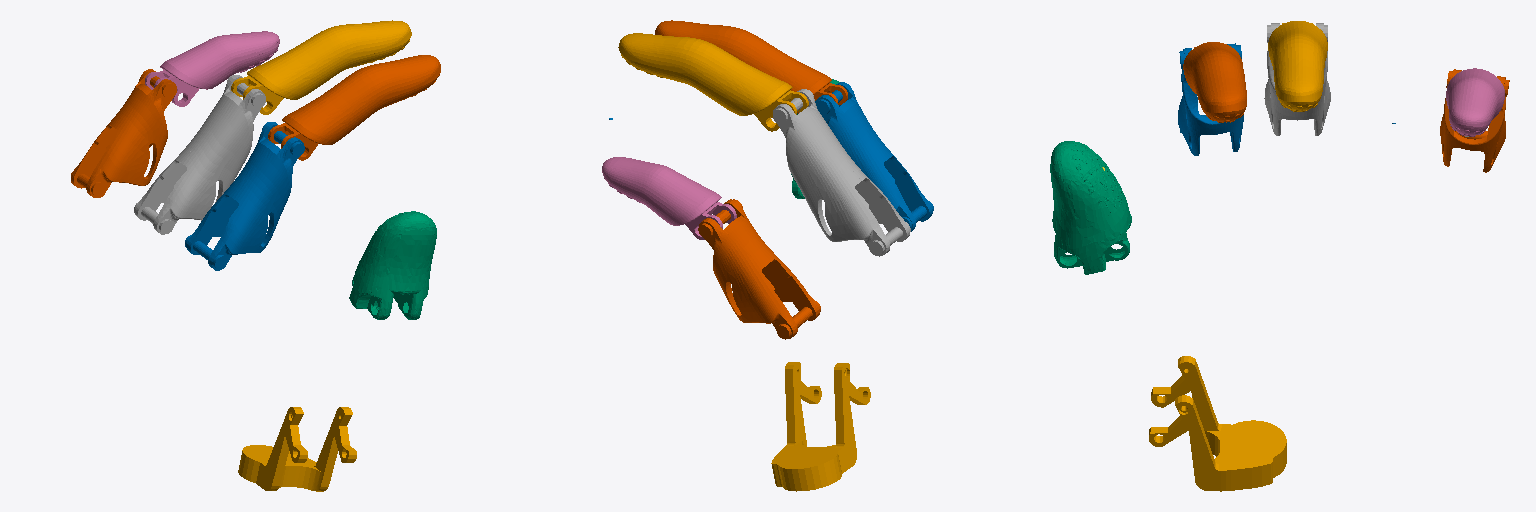
robot.urdf — InspireHand_OY_Left:
<?xml version="1.0" encoding="UTF-8"?>
<robot name="InspireHand_OY_Left">
  <joint name="hand1_joint_link_1_1" type="revolute">
    <origin xyz="0.022705 -0.019251 0.047312" rpy="-0.0083817 0.21825 -0.038695 "/>
    <parent link="hand1_link_base"/>
    <child link="hand1_link_1_1"/>
    <axis xyz="0. 0. 1."/>
    <limit lower="0." upper="1.5699999" effort="10." velocity="1.364"/>
  </joint>
  <joint name="hand1_joint_link_1_2" type="revolute">
    <origin xyz="0.00275 -0.015346 0.017066" rpy="0. 0. -0."/>
    <parent link="hand1_link_1_1"/>
    <child link="hand1_link_1_2"/>
    <axis xyz="1. 0. 0."/>
    <limit lower="0.04" upper="0.6416" effort="10." velocity="1.364"/>
  </joint>
  <joint name="hand1_joint_link_1_3" type="revolute">
    <origin xyz="0. 0. 0.046398" rpy="-0.19193 0. 0. "/>
    <parent link="hand1_link_1_2"/>
    <child link="hand1_link_1_3"/>
    <axis xyz="1. 0. 0."/>
    <limit lower="-0.5" upper="0.04" effort="10." velocity="1.364"/>
    <mimic joint="hand1_joint_link_1_2" multiplier="0.89761" offset="-0.535904255" />
  </joint>
  <joint name="hand1_joint_link_1_4" type="fixed">
    <origin xyz="0. -0.0046792 0.018289 " rpy="1.5707973 1.3788673 1.5707973"/>
    <parent link="hand1_link_1_3"/>
    <child link="hand1_link_1_4"/>
  </joint>
  <joint name="hand1_joint_link_2_1" type="revolute">
    <origin xyz="-0.0026645 -0.029097 0.1161 " rpy="-1.5647001 0.06952 -1.4833 "/>
    <parent link="hand1_link_base"/>
    <child link="hand1_link_2_1"/>
    <axis xyz="1. 0. 0."/>
    <limit lower="1.7499999" upper="3.1099998" effort="10." velocity="1.364"/>
  </joint>
  <joint name="hand1_joint_link_2_2" type="revolute">
    <origin xyz="0. 0.035919 -0.000219" rpy="-0. 0. -0."/>
    <parent link="hand1_link_2_1"/>
    <child link="hand1_link_2_2"/>
    <axis xyz="1. 0. 0."/>
    <limit lower="0.02845" upper="1.5699999" effort="10." velocity="1.364"/>
    <mimic joint="hand1_joint_link_2_1" multiplier="1.13349" offset="-1.954170452" />
  </joint>
  <joint name="hand1_joint_link_2_3" type="fixed">
    <origin xyz="0. -0.0002353 -0.04385 " rpy="-1.5707726 -0.0061038 -1.5707965"/>
    <parent link="hand1_link_2_2"/>
    <child link="hand1_link_2_3"/>
  </joint>
  <joint name="hand1_joint_link_3_1" type="revolute">
    <origin xyz="-0.0069662 -0.0090558 0.1191 " rpy="-1.5708 0.0000001 -1.5708 "/>
    <parent link="hand1_link_base"/>
    <child link="hand1_link_3_1"/>
    <axis xyz="1. 0. 0."/>
    <limit lower="1.7099999" upper="3.0699997" effort="10." velocity="1.364"/>
  </joint>
  <joint name="hand1_joint_link_3_2" type="revolute">
    <origin xyz="0.0000428 0.041009 0. " rpy="0. -0. 0.011929"/>
    <parent link="hand1_link_3_1"/>
    <child link="hand1_link_3_2"/>
    <axis xyz="1. 0. 0."/>
    <limit lower="0.0688" upper="1.5699999" effort="10." velocity="1.364"/>
    <mimic joint="hand1_joint_link_3_1" multiplier="1.10382" offset="-1.81781665" />
  </joint>
  <joint name="hand1_joint_link_3_3" type="fixed">
    <origin xyz="0.0000142 -0.0018023 -0.043814 " rpy="-1.5707964 -0.0000036 -1.5707878"/>
    <parent link="hand1_link_3_2"/>
    <child link="hand1_link_3_3"/>
  </joint>
  <joint name="hand1_joint_link_4_1" type="revolute">
    <origin xyz="-0.0062162 0.010944 0.1161 " rpy="-1.5708 -0.0698469 -1.5708 "/>
    <parent link="hand1_link_base"/>
    <child link="hand1_link_4_1"/>
    <axis xyz="1. 0. 0."/>
    <limit lower="1.7699998" upper="3.0799999" effort="10." velocity="1.364"/>
  </joint>
  <joint name="hand1_joint_link_4_2" type="revolute">
    <origin xyz="-0. 0.03592 0. " rpy="0. -0. 0.0000001"/>
    <parent link="hand1_link_4_1"/>
    <child link="hand1_link_4_2"/>
    <axis xyz="1. 0. 0."/>
    <limit lower="0.06" upper="1.5699999" effort="10." velocity="1.364"/>
    <mimic joint="hand1_joint_link_4_1" multiplier="1.15267" offset="-1.979224338" />
  </joint>
  <joint name="hand1_joint_link_4_3" type="fixed">
    <origin xyz="-0. -0.0022757 -0.043792 " rpy="-1.5707725 -0.0000036 -1.5707963"/>
    <parent link="hand1_link_4_2"/>
    <child link="hand1_link_4_3"/>
  </joint>
  <joint name="hand1_joint_link_5_1" type="revolute">
    <origin xyz="-0.0036637 0.030986 0.11208 " rpy="-1.5592998 -0.1312 -1.6588 "/>
    <parent link="hand1_link_base"/>
    <child link="hand1_link_5_1"/>
    <axis xyz="1. 0. 0."/>
    <limit lower="1.73" upper="3.0499999" effort="10." velocity="1.364"/>
  </joint>
  <joint name="hand1_joint_link_5_2" type="revolute">
    <origin xyz="-0. 0.031929 -0.0003684" rpy="0. -0. 0."/>
    <parent link="hand1_link_5_1"/>
    <child link="hand1_link_5_2"/>
    <axis xyz="1. 0. 0."/>
    <limit lower="0.09" upper="1.5699999" effort="10." velocity="1.364"/>
    <mimic joint="hand1_joint_link_5_1" multiplier="1.12121" offset="-1.848759431" />
  </joint>
  <joint name="hand1_joint_link_5_3" type="fixed">
    <origin xyz="0. -0.0012841 -0.031579 " rpy="-1.5707964 -0.0115037 -1.5707964"/>
    <parent link="hand1_link_5_2"/>
    <child link="hand1_link_5_3"/>
  </joint>
  <link name="hand1_link_1_1">
    <visual>
      <origin xyz="0. 0. 0." rpy="0. 0. 0."/>
      <geometry>
        <mesh filename="meshes/hand1_link_1_1_visuals.obj" scale="1. 1. 1."/>
      </geometry>
    </visual>
    <collision>
      <origin xyz="0. 0. 0." rpy="0. 0. 0."/>
      <geometry>
        <mesh filename="meshes/hand1_link_1_1_collisions.obj" scale="1. 1. 1."/>
      </geometry>
    </collision>
  </link>
  <link name="hand1_link_1_2">
    <inertial>
      <origin xyz="0. 0. 0." rpy="0. 0. 0."/>
      <mass value="0.022429"/>
      <inertia ixx="0." ixy="0." ixz="0." iyy="0." iyz="0." izz="0."/>
    </inertial>
    <visual>
      <origin xyz="0. 0. 0." rpy="0. 0. 0."/>
      <geometry>
        <mesh filename="meshes/hand1_link_1_2_visuals.obj" scale="1. 1. 1."/>
      </geometry>
    </visual>
    <collision>
      <origin xyz="0. 0. 0." rpy="0. 0. 0."/>
      <geometry>
        <mesh filename="meshes/hand1_link_1_2_collisions.obj" scale="1. 1. 1."/>
      </geometry>
    </collision>
  </link>
  <link name="hand1_link_1_3">
    <inertial>
      <origin xyz="0. 0. 0." rpy="0. 0. 0."/>
      <mass value="0.0022502"/>
      <inertia ixx="0." ixy="0." ixz="0." iyy="0." iyz="0." izz="0."/>
    </inertial>
    <visual>
      <origin xyz="0. 0. -0." rpy="-0.0000009 0.0000002 0. "/>
      <geometry>
        <mesh filename="meshes/hand1_link_1_3_visuals.obj" scale="1. 1. 1."/>
      </geometry>
    </visual>
    <collision>
      <origin xyz="0. 0. -0." rpy="-0.0000009 0.0000002 0. "/>
      <geometry>
        <mesh filename="meshes/hand1_link_1_3_collisions.obj" scale="1. 1. 1."/>
      </geometry>
    </collision>
  </link>
  <link name="hand1_link_1_4">
    <inertial>
      <origin xyz="0. 0. 0." rpy="0. 0. 0."/>
      <mass value="0.0000002"/>
      <inertia ixx="0." ixy="0." ixz="0." iyy="0." iyz="0." izz="0."/>
    </inertial>
    <visual>
      <origin xyz="-0. 0. 0." rpy="-3.0166261 -1.5707961 3.0166261"/>
      <geometry>
        <mesh filename="meshes/hand1_link_1_4_visuals.obj" scale="1. 1. 1."/>
      </geometry>
    </visual>
    <collision>
      <origin xyz="-0. 0. 0." rpy="-3.0166261 -1.5707961 3.0166261"/>
      <geometry>
        <mesh filename="meshes/hand1_link_1_4_collisions.obj" scale="1. 1. 1."/>
      </geometry>
    </collision>
  </link>
  <link name="hand1_link_2_1">
    <inertial>
      <origin xyz="0. 0. 0." rpy="0. 0. 0."/>
      <mass value="0.0059375"/>
      <inertia ixx="0." ixy="0." ixz="0." iyy="0." iyz="0." izz="0."/>
    </inertial>
    <visual>
      <origin xyz="0. 0. 0." rpy="0. 0. 0."/>
      <geometry>
        <mesh filename="meshes/hand1_link_2_1_visuals.obj" scale="1. 1. 1."/>
      </geometry>
    </visual>
    <collision>
      <origin xyz="0. 0. 0." rpy="0. 0. 0."/>
      <geometry>
        <mesh filename="meshes/hand1_link_2_1_collisions.obj" scale="1. 1. 1."/>
      </geometry>
    </collision>
  </link>
  <link name="hand1_link_2_2">
    <inertial>
      <origin xyz="0. 0. 0." rpy="0. 0. 0."/>
      <mass value="0.012005"/>
      <inertia ixx="0." ixy="0." ixz="0." iyy="0." iyz="0." izz="0."/>
    </inertial>
    <visual>
      <origin xyz="0. 0. 0." rpy="0. 0. 0."/>
      <geometry>
        <mesh filename="meshes/hand1_link_2_2_visuals.obj" scale="1. 1. 1."/>
      </geometry>
    </visual>
    <collision>
      <origin xyz="0. 0. 0." rpy="0. 0. 0."/>
      <geometry>
        <mesh filename="meshes/hand1_link_2_2_collisions.obj" scale="1. 1. 1."/>
      </geometry>
    </collision>
  </link>
  <link name="hand1_link_2_3">
    <inertial>
      <origin xyz="0. 0. 0." rpy="0. 0. 0."/>
      <mass value="0.0000002"/>
      <inertia ixx="0." ixy="0." ixz="0." iyy="0." iyz="0." izz="0."/>
    </inertial>
    <visual>
      <origin xyz="0. -0. 0." rpy="-1.5707963 -1.5707961 1.5707964"/>
      <geometry>
        <mesh filename="meshes/hand1_link_2_3_visuals.obj" scale="1. 1. 1."/>
      </geometry>
    </visual>
    <collision>
      <origin xyz="0. -0. 0." rpy="-1.5707963 -1.5707961 1.5707964"/>
      <geometry>
        <mesh filename="meshes/hand1_link_2_3_collisions.obj" scale="1. 1. 1."/>
      </geometry>
    </collision>
  </link>
  <link name="hand1_link_3_1">
    <inertial>
      <origin xyz="0. 0. 0." rpy="0. 0. 0."/>
      <mass value="0.0067572"/>
      <inertia ixx="0." ixy="0." ixz="0." iyy="0." iyz="0." izz="0."/>
    </inertial>
    <visual>
      <origin xyz="0. 0. 0." rpy="0. -0. -0."/>
      <geometry>
        <mesh filename="meshes/hand1_link_3_1_visuals.obj" scale="1. 1. 1."/>
      </geometry>
    </visual>
    <collision>
      <origin xyz="0. 0. 0." rpy="0. -0. -0."/>
      <geometry>
        <mesh filename="meshes/hand1_link_3_1_collisions.obj" scale="1. 1. 1."/>
      </geometry>
    </collision>
  </link>
  <link name="hand1_link_3_2">
    <inertial>
      <origin xyz="0. 0. 0." rpy="0. 0. 0."/>
      <mass value="0.012005"/>
      <inertia ixx="0." ixy="0." ixz="0." iyy="0." iyz="0." izz="0."/>
    </inertial>
    <visual>
      <origin xyz="-0. 0. -0." rpy="-0. -0. 0.0000086"/>
      <geometry>
        <mesh filename="meshes/hand1_link_3_2_visuals.obj" scale="1. 1. 1."/>
      </geometry>
    </visual>
    <collision>
      <origin xyz="-0. 0. -0." rpy="-0. -0. 0.0000086"/>
      <geometry>
        <mesh filename="meshes/hand1_link_3_2_collisions.obj" scale="1. 1. 1."/>
      </geometry>
    </collision>
  </link>
  <link name="hand1_link_3_3">
    <inertial>
      <origin xyz="0. 0. 0." rpy="0. 0. 0."/>
      <mass value="0.0000002"/>
      <inertia ixx="0." ixy="0." ixz="0." iyy="0." iyz="0." izz="0."/>
    </inertial>
    <visual>
      <origin xyz="-0. 0. -0." rpy="-0.0000001 -1.5707963 0. "/>
      <geometry>
        <mesh filename="meshes/hand1_link_3_3_visuals.obj" scale="1. 1. 1."/>
      </geometry>
    </visual>
    <collision>
      <origin xyz="-0. 0. -0." rpy="-0.0000001 -1.5707963 0. "/>
      <geometry>
        <mesh filename="meshes/hand1_link_3_3_collisions.obj" scale="1. 1. 1."/>
      </geometry>
    </collision>
  </link>
  <link name="hand1_link_4_1">
    <inertial>
      <origin xyz="0. 0. 0." rpy="0. 0. 0."/>
      <mass value="0.0059375"/>
      <inertia ixx="0." ixy="0." ixz="0." iyy="0." iyz="0." izz="0."/>
    </inertial>
    <visual>
      <origin xyz="0. 0. 0." rpy="0. -0. 0.0000001"/>
      <geometry>
        <mesh filename="meshes/hand1_link_4_1_visuals.obj" scale="1. 1. 1."/>
      </geometry>
    </visual>
    <collision>
      <origin xyz="0. 0. 0." rpy="0. -0. 0.0000001"/>
      <geometry>
        <mesh filename="meshes/hand1_link_4_1_collisions.obj" scale="1. 1. 1."/>
      </geometry>
    </collision>
  </link>
  <link name="hand1_link_4_2">
    <inertial>
      <origin xyz="0. 0. 0." rpy="0. 0. 0."/>
      <mass value="0.012005"/>
      <inertia ixx="0." ixy="0." ixz="0." iyy="0." iyz="0." izz="0."/>
    </inertial>
    <visual>
      <origin xyz="-0. -0. 0." rpy="0. -0. 0.0000001"/>
      <geometry>
        <mesh filename="meshes/hand1_link_4_2_visuals.obj" scale="1. 1. 1."/>
      </geometry>
    </visual>
    <collision>
      <origin xyz="-0. -0. 0." rpy="0. -0. 0.0000001"/>
      <geometry>
        <mesh filename="meshes/hand1_link_4_2_collisions.obj" scale="1. 1. 1."/>
      </geometry>
    </collision>
  </link>
  <link name="hand1_link_4_3">
    <inertial>
      <origin xyz="0. 0. 0." rpy="0. 0. 0."/>
      <mass value="0.0000002"/>
      <inertia ixx="0." ixy="0." ixz="0." iyy="0." iyz="0." izz="0."/>
    </inertial>
    <visual>
      <origin xyz="0. 0. -0." rpy="-0.0000001 -1.5707963 0. "/>
      <geometry>
        <mesh filename="meshes/hand1_link_4_3_visuals.obj" scale="1. 1. 1."/>
      </geometry>
    </visual>
    <collision>
      <origin xyz="0. 0. -0." rpy="-0.0000001 -1.5707963 0. "/>
      <geometry>
        <mesh filename="meshes/hand1_link_4_3_collisions.obj" scale="1. 1. 1."/>
      </geometry>
    </collision>
  </link>
  <link name="hand1_link_5_1">
    <inertial>
      <origin xyz="0. 0. 0." rpy="0. 0. 0."/>
      <mass value="0.0067858"/>
      <inertia ixx="0." ixy="0." ixz="0." iyy="0." iyz="0." izz="0."/>
    </inertial>
    <visual>
      <origin xyz="0. 0. 0." rpy="0. -0. 0."/>
      <geometry>
        <mesh filename="meshes/hand1_link_5_1_visuals.obj" scale="1. 1. 1."/>
      </geometry>
    </visual>
    <collision>
      <origin xyz="0. 0. 0." rpy="0. -0. 0."/>
      <geometry>
        <mesh filename="meshes/hand1_link_5_1_collisions.obj" scale="1. 1. 1."/>
      </geometry>
    </collision>
  </link>
  <link name="hand1_link_5_2">
    <inertial>
      <origin xyz="0. 0. 0." rpy="0. 0. 0."/>
      <mass value="0.0071121"/>
      <inertia ixx="0." ixy="0." ixz="0." iyy="0." iyz="0." izz="0."/>
    </inertial>
    <visual>
      <origin xyz="0. 0. 0." rpy="0. -0. 0."/>
      <geometry>
        <mesh filename="meshes/hand1_link_5_2_visuals.obj" scale="1. 1. 1."/>
      </geometry>
    </visual>
    <collision>
      <origin xyz="0. 0. 0." rpy="0. -0. 0."/>
      <geometry>
        <mesh filename="meshes/hand1_link_5_2_collisions.obj" scale="1. 1. 1."/>
      </geometry>
    </collision>
  </link>
  <link name="hand1_link_5_3">
    <inertial>
      <origin xyz="0. 0. 0." rpy="0. 0. 0."/>
      <mass value="0.0000002"/>
      <inertia ixx="0." ixy="0." ixz="0." iyy="0." iyz="0." izz="0."/>
    </inertial>
    <visual>
      <origin xyz="-0. 0. 0." rpy="-0. -1.5707963 0. "/>
      <geometry>
        <mesh filename="meshes/hand1_link_5_3_visuals.obj" scale="1. 1. 1."/>
      </geometry>
    </visual>
    <collision>
      <origin xyz="-0. 0. 0." rpy="-0. -1.5707963 0. "/>
      <geometry>
        <mesh filename="meshes/hand1_link_5_3_collisions.obj" scale="1. 1. 1."/>
      </geometry>
    </collision>
  </link>
  <link name="hand1_link_base">
    <inertial>
      <origin xyz="0. 0. 0." rpy="0. 0. 0."/>
      <mass value="0.22607"/>
      <inertia ixx="0." ixy="0." ixz="0." iyy="0." iyz="0." izz="0."/>
    </inertial>
    <visual>
      <origin xyz="0. 0. 0." rpy="0. 0. 0."/>
      <geometry>
        <mesh filename="meshes/hand1_link_base_visuals.obj" scale="1. 1. 1."/>
      </geometry>
    </visual>
    <collision>
      <origin xyz="0. 0. 0." rpy="0. 0. 0."/>
      <geometry>
        <mesh filename="meshes/hand1_link_base_collisions.obj" scale="1. 1. 1."/>
      </geometry>
    </collision>
  </link>
</robot>

--- What the picture shows (computed from the rendered views, not written in the file) ---
The picture shows the robot from 3 angles, left to right: view 1: azimuth 30°, elevation 25°; view 2: azimuth 150°, elevation 25°; view 3: azimuth 270°, elevation 25°; orthographic projection.
Model InspireHand_OY_Left with 17 links and 16 joints (11 revolute, 5 fixed), rooted at hand1_link_base, posed all joints at 0 but 9 set to mid-range because 0 is outside their limits (hand1_joint_link_1_2 = 0.3408, hand1_joint_link_1_3 = -0.23, hand1_joint_link_2_1 = 2.43, hand1_joint_link_2_2 = 0.8002, hand1_joint_link_3_1 = 2.39, hand1_joint_link_3_2 = 0.8203, +3 more).
Visible links, largest first — view 1: hand1_link_3_1, hand1_link_2_1, hand1_link_3_2, hand1_link_2_2, hand1_link_1_3, hand1_link_5_1, hand1_link_1_1, hand1_link_5_2; view 2: hand1_link_3_1, hand1_link_3_2, hand1_link_5_1, hand1_link_1_1, hand1_link_2_1, hand1_link_5_2, hand1_link_2_2; view 3: hand1_link_1_1, hand1_link_1_3, hand1_link_3_2, hand1_link_2_2, hand1_link_5_2, hand1_link_2_1, hand1_link_5_1, hand1_link_3_1.
Boxes of the visible links, box(x1,y1,x2,y2) form: hand1_link_3_1: box(134, 75, 265, 234); hand1_link_2_1: box(185, 122, 304, 270); hand1_link_3_2: box(231, 20, 411, 114); hand1_link_2_2: box(268, 55, 440, 160); hand1_link_1_3: box(349, 211, 436, 319); hand1_link_5_1: box(71, 69, 176, 197); hand1_link_1_1: box(238, 407, 356, 491); hand1_link_5_2: box(145, 31, 279, 106); hand1_link_3_1: box(773, 89, 910, 256); hand1_link_3_2: box(618, 33, 808, 131); hand1_link_5_1: box(698, 199, 820, 339); hand1_link_1_1: box(771, 362, 870, 491); hand1_link_2_1: box(815, 82, 933, 231); hand1_link_5_2: box(602, 157, 736, 239); hand1_link_2_2: box(655, 20, 847, 113); hand1_link_1_1: box(1149, 356, 1286, 491); hand1_link_1_3: box(1050, 141, 1131, 274); hand1_link_3_2: box(1268, 21, 1327, 111); hand1_link_2_2: box(1183, 42, 1246, 122); hand1_link_5_2: box(1446, 68, 1504, 136); hand1_link_2_1: box(1178, 43, 1243, 155); hand1_link_5_1: box(1440, 69, 1509, 172); hand1_link_3_1: box(1264, 23, 1330, 135).
Bounding box of the posed robot: 0.0804 × 0.1049 × 0.1219 m (x, y, z).
Meshes: 17 distinct files referenced, 12 mesh visuals loaded (12 OBJ); not drawn: 5 (reference not matched to a file when rendering).